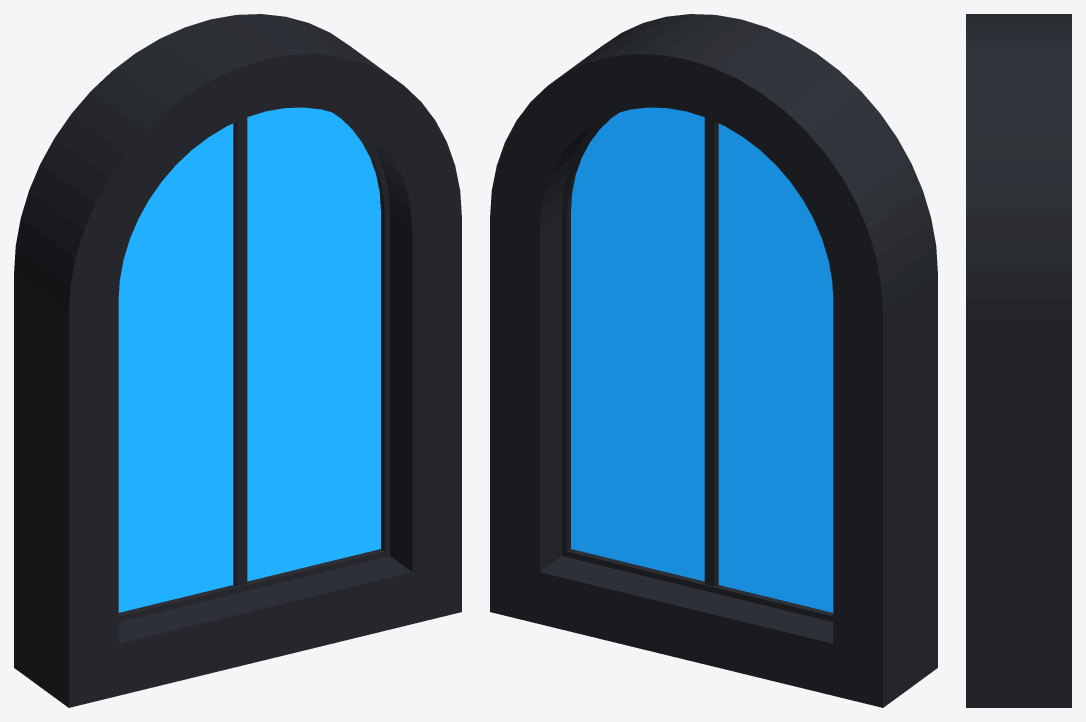
The model's file is janela_arco_folhas_preta.glb.
3 views of the same model, side by side, from view 1: azimuth 30°, elevation 25°; view 2: azimuth 150°, elevation 25°; view 3: azimuth 270°, elevation 25° (orthographic). The views are drawn at different scales.
Parts seen in each view (by area): view 1: janela_arco_folhas_preta; view 2: janela_arco_folhas_preta; view 3: janela_arco_folhas_preta.
Boxes of the visible parts, x1,y1,x2,y2 form: janela_arco_folhas_preta: [14, 14, 461, 707]; janela_arco_folhas_preta: [490, 14, 937, 707]; janela_arco_folhas_preta: [966, 14, 1071, 707].
Bounding box in the file's own units: 0.87 × 1.27 × 0.21.
